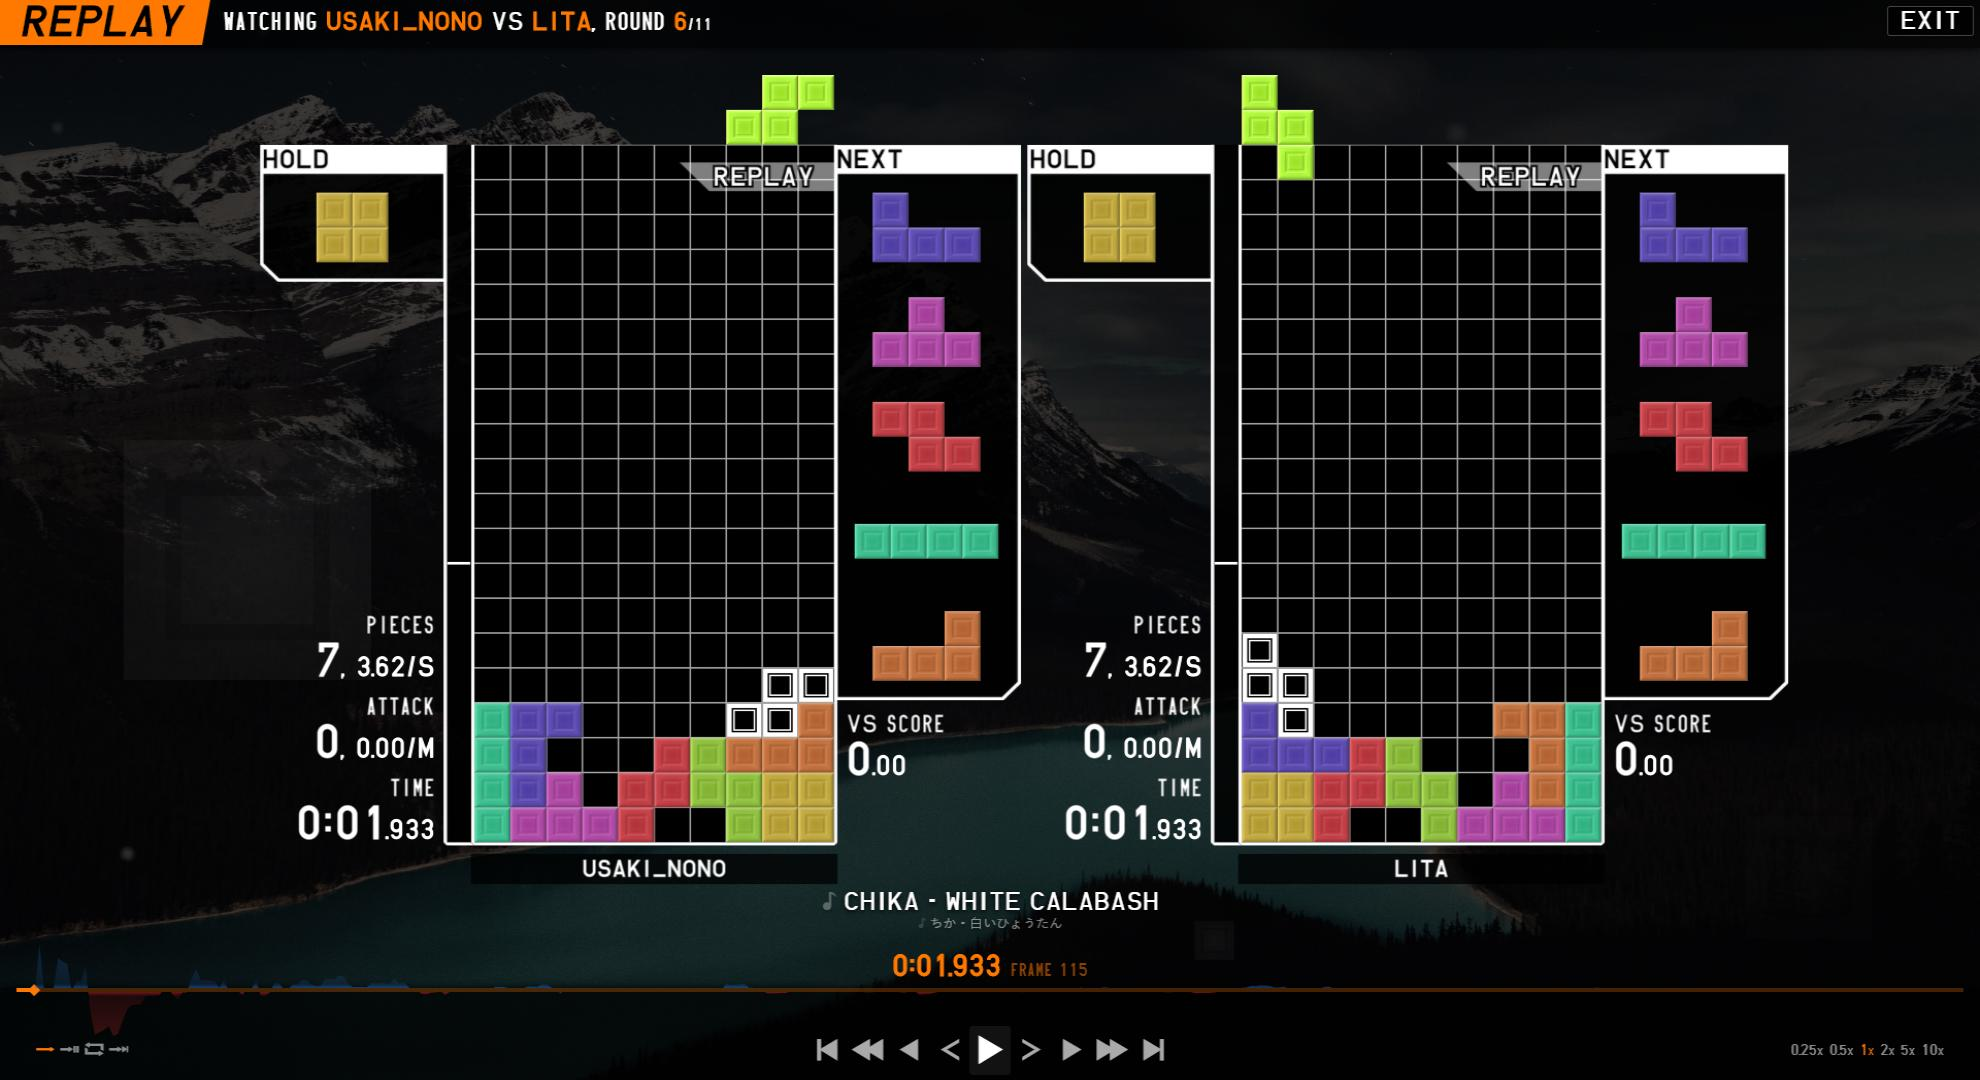tspin: (1418, 690, 1540, 811), (537, 704, 658, 810)
